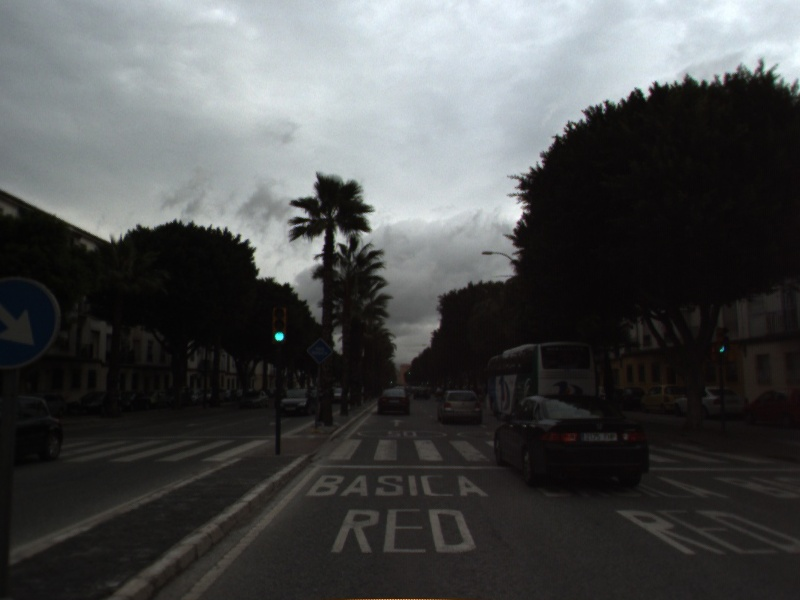STRAIGHT: (387, 417, 407, 429)
